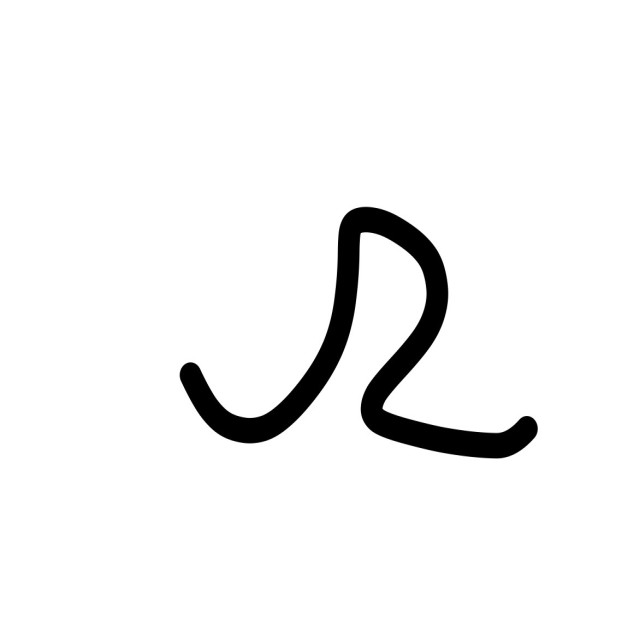ohms: (174, 79, 542, 544)
